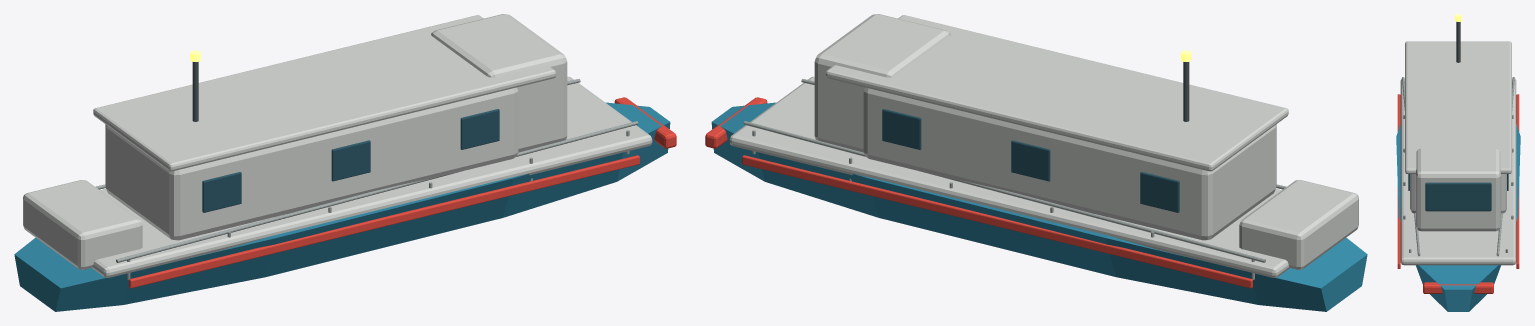
File: transport-passenger-ferry-lod1.glb
3 views of the same model, side by side, from view 1: azimuth 30°, elevation 25°; view 2: azimuth 150°, elevation 25°; view 3: azimuth 270°, elevation 25° (orthographic). The views are drawn at different scales.
Parts seen in each view (by area): view 1: Cabin roof, Open passenger cabin, Ferry hull, Passenger deck, Wheelhouse, Stern engine casing, Hull safety stripe, Passenger deck rail, Cabin side window.001, Cabin side window.002, Cabin side window, Bow bumper; view 2: Cabin roof, Open passenger cabin, Ferry hull, Passenger deck, Wheelhouse, Stern engine casing, Hull safety stripe.001, Passenger deck rail.001, Cabin side window.004, Cabin side window.005, Cabin side window.003, Bow bumper; view 3: Cabin roof, Passenger deck, Wheelhouse, Ferry hull, Cabin front window, Bow bumper, Open passenger cabin, Hull safety stripe, Hull safety stripe.001, Navigation mast, Passenger deck rail, Passenger deck rail.001.
Boxes of the visible parts, x1=… form: Cabin roof: x1=93, y1=15, x2=555, y2=171; Open passenger cabin: x1=105, y1=87, x2=518, y2=240; Ferry hull: x1=14, y1=102, x2=670, y2=311; Passenger deck: x1=92, y1=76, x2=652, y2=277; Wheelhouse: x1=431, y1=14, x2=567, y2=152; Stern engine casing: x1=23, y1=180, x2=142, y2=269; Hull safety stripe: x1=129, y1=155, x2=639, y2=288; Passenger deck rail: x1=116, y1=121, x2=638, y2=262; Cabin side window.001: x1=331, y1=140, x2=370, y2=181; Cabin side window.002: x1=460, y1=109, x2=499, y2=149; Cabin side window: x1=202, y1=172, x2=241, y2=212; Bow bumper: x1=614, y1=97, x2=676, y2=148; Cabin roof: x1=826, y1=15, x2=1288, y2=171; Open passenger cabin: x1=863, y1=87, x2=1276, y2=240; Ferry hull: x1=711, y1=102, x2=1367, y2=311; Passenger deck: x1=729, y1=76, x2=1289, y2=277; Wheelhouse: x1=814, y1=14, x2=950, y2=152; Stern engine casing: x1=1239, y1=180, x2=1358, y2=269; Hull safety stripe.001: x1=742, y1=155, x2=1252, y2=288; Passenger deck rail.001: x1=743, y1=121, x2=1265, y2=262; Cabin side window.004: x1=1011, y1=140, x2=1050, y2=181; Cabin side window.005: x1=882, y1=109, x2=921, y2=149; Cabin side window.003: x1=1140, y1=172, x2=1179, y2=212; Bow bumper: x1=705, y1=97, x2=767, y2=148; Cabin roof: x1=1405, y1=41, x2=1511, y2=173; Passenger deck: x1=1400, y1=77, x2=1516, y2=265; Wheelhouse: x1=1416, y1=148, x2=1500, y2=231; Ferry hull: x1=1396, y1=124, x2=1520, y2=311; Cabin front window: x1=1425, y1=182, x2=1491, y2=211; Bow bumper: x1=1423, y1=282, x2=1493, y2=293; Open passenger cabin: x1=1410, y1=174, x2=1506, y2=213; Hull safety stripe: x1=1397, y1=94, x2=1400, y2=268; Hull safety stripe.001: x1=1516, y1=94, x2=1519, y2=268; Navigation mast: x1=1456, y1=22, x2=1460, y2=62; Passenger deck rail: x1=1402, y1=77, x2=1420, y2=256; Passenger deck rail.001: x1=1496, y1=77, x2=1514, y2=256.
Bounding box in the file's own units: 19.3 × 6.16 × 4.9.
